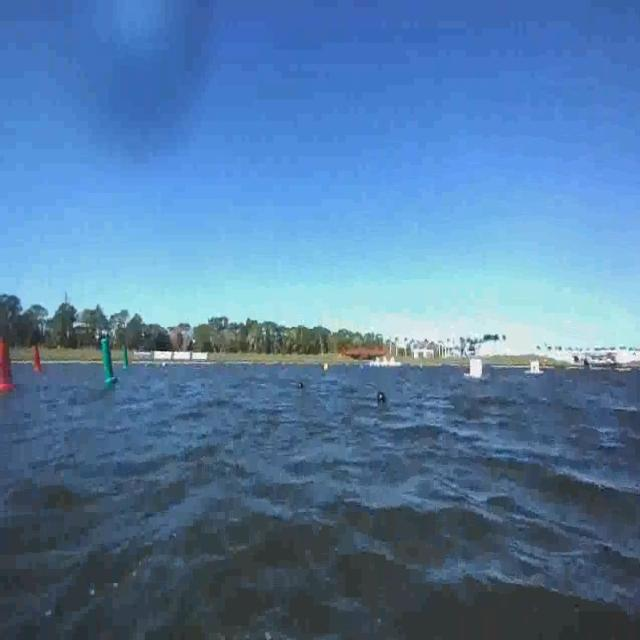black-buoy: (298, 381, 305, 393), (378, 396, 387, 405)
green-column-buoy: (100, 338, 118, 387), (120, 343, 128, 370)
red-column-buoy: (0, 336, 16, 393), (30, 344, 41, 373)
yellow-buoy: (323, 361, 329, 373)
